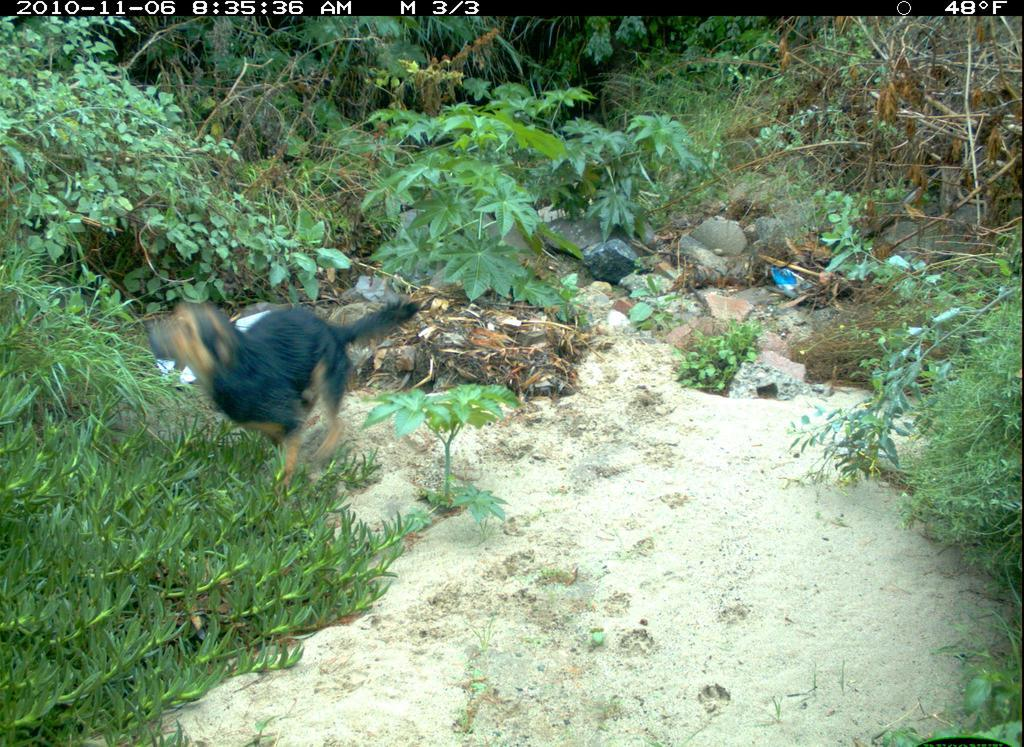dog: (143, 286, 432, 477)
